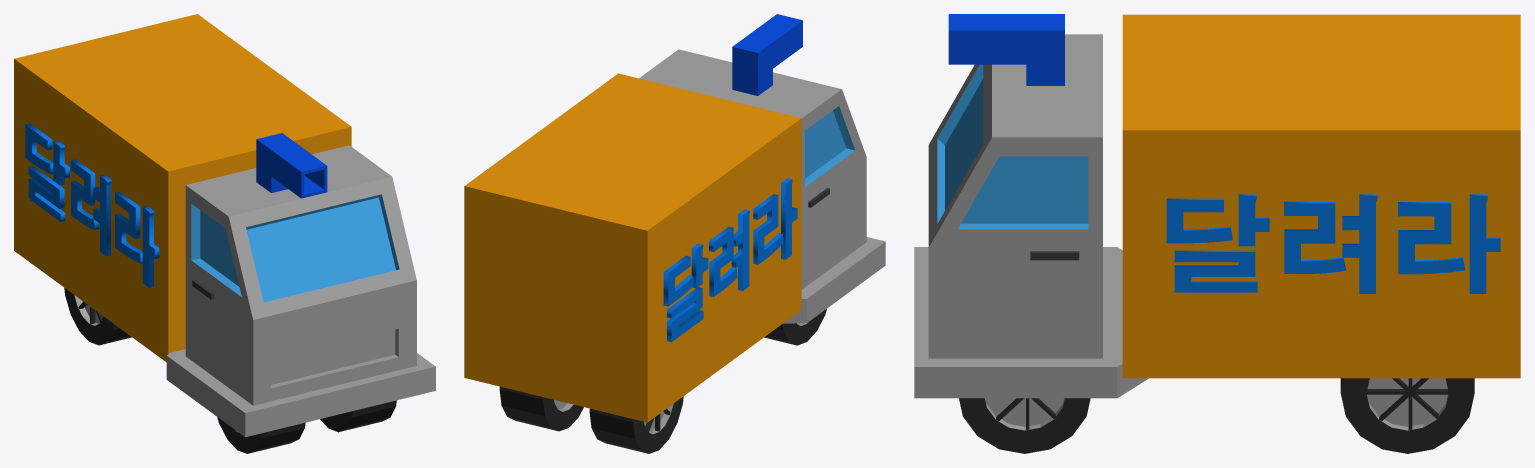
The model's file is car2.fbx.
3 renders of one model, left to right at view 1: azimuth 30°, elevation 25°; view 2: azimuth 150°, elevation 25°; view 3: azimuth 270°, elevation 25°, orthographic. The views are drawn at different scales.
Parts seen in each view (by area): view 1: car; view 2: car; view 3: car.
Boxes of the visible parts, bbox=[...] form: car: bbox=[14, 14, 435, 453]; car: bbox=[464, 14, 885, 453]; car: bbox=[914, 14, 1520, 453].
Bounding box in the file's own units: 234 × 341 × 497.
